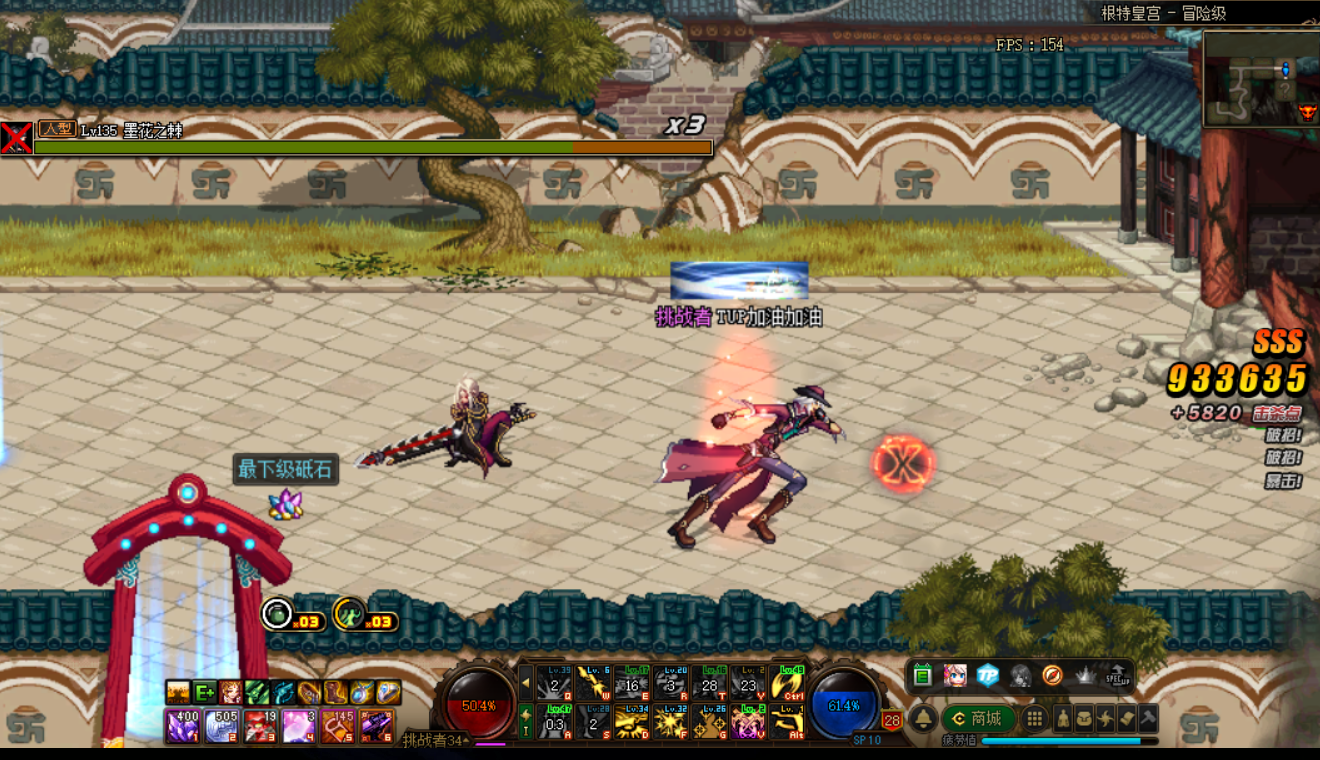monster: (366, 377, 525, 491)
warrior: (658, 369, 841, 561)
